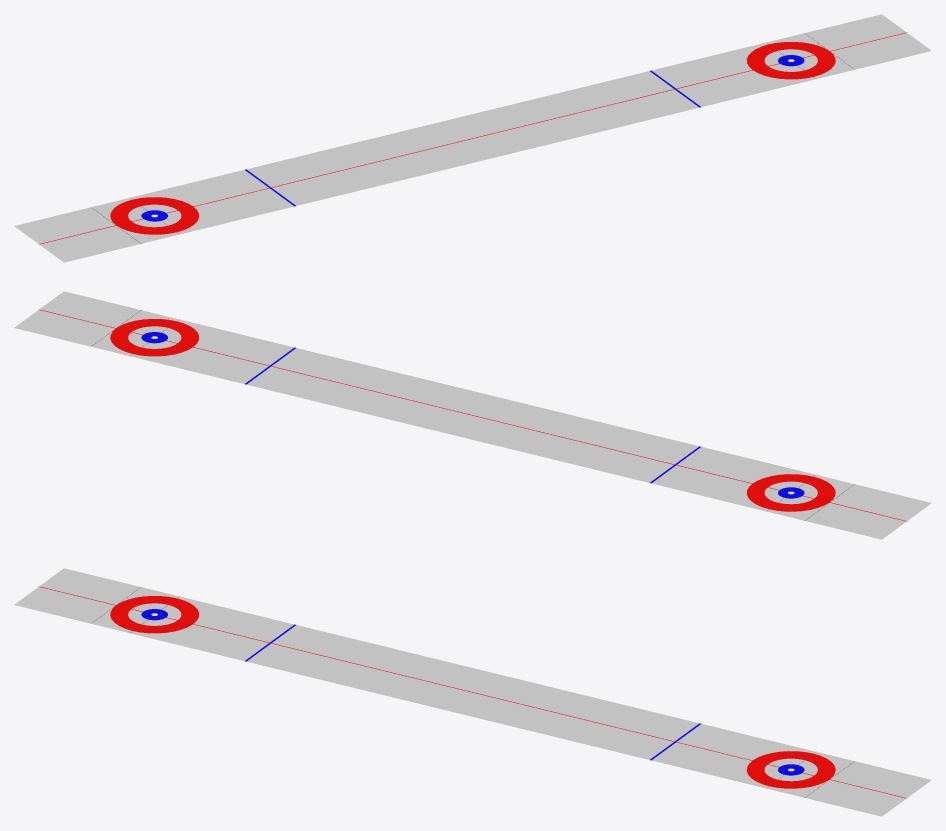
The model's file is ice.obj.
The picture shows the model from 3 angles, top to bottom: view 1: azimuth 30°, elevation 25°; view 2: azimuth 150°, elevation 25°; view 3: azimuth 330°, elevation 25°; orthographic projection.
Visible parts, largest first — view 1: ice_Plane.008, rings1_Circle.005, rings2_Circle.004; view 2: ice_Plane.008, rings1_Circle.005, rings2_Circle.004; view 3: ice_Plane.008, rings2_Circle.004, rings1_Circle.005.
Boxes of the visible parts, <box> form: ice_Plane.008: <box>14,14,931,262</box>; rings1_Circle.005: <box>110,197,198,234</box>; rings2_Circle.004: <box>746,42,835,79</box>; ice_Plane.008: <box>14,291,931,539</box>; rings1_Circle.005: <box>747,474,835,511</box>; rings2_Circle.004: <box>110,319,199,356</box>; ice_Plane.008: <box>14,568,931,816</box>; rings2_Circle.004: <box>746,751,835,788</box>; rings1_Circle.005: <box>110,596,199,633</box>.
Size of the model in its own units: 45 by 0.0102 by 4.5.
